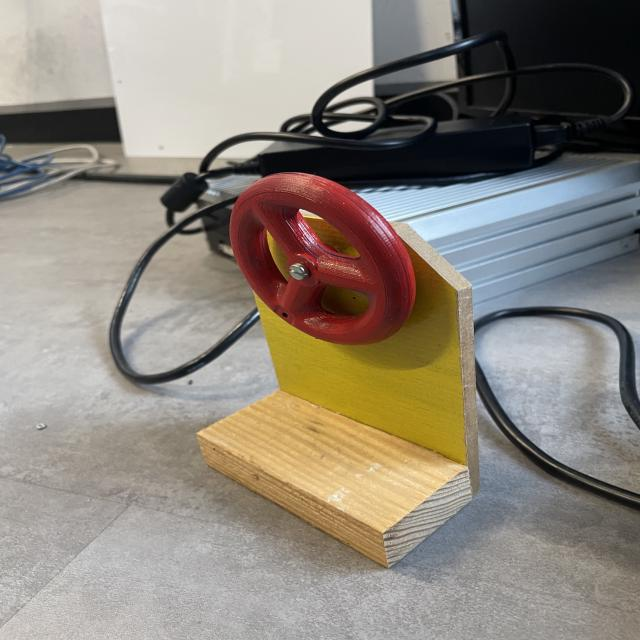Wheel Handle Valve Threaded: (224, 166, 422, 344)
